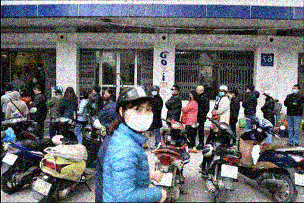with_mask: (123, 103, 154, 135), (150, 88, 157, 98), (169, 87, 176, 96), (291, 87, 298, 94), (218, 90, 225, 97), (228, 92, 234, 99), (187, 93, 192, 101), (103, 91, 108, 99), (31, 78, 37, 84), (78, 94, 83, 101), (263, 93, 267, 101), (36, 66, 42, 71), (91, 88, 95, 95), (17, 90, 21, 96)
without_mask: (194, 87, 202, 95), (32, 88, 38, 96)
